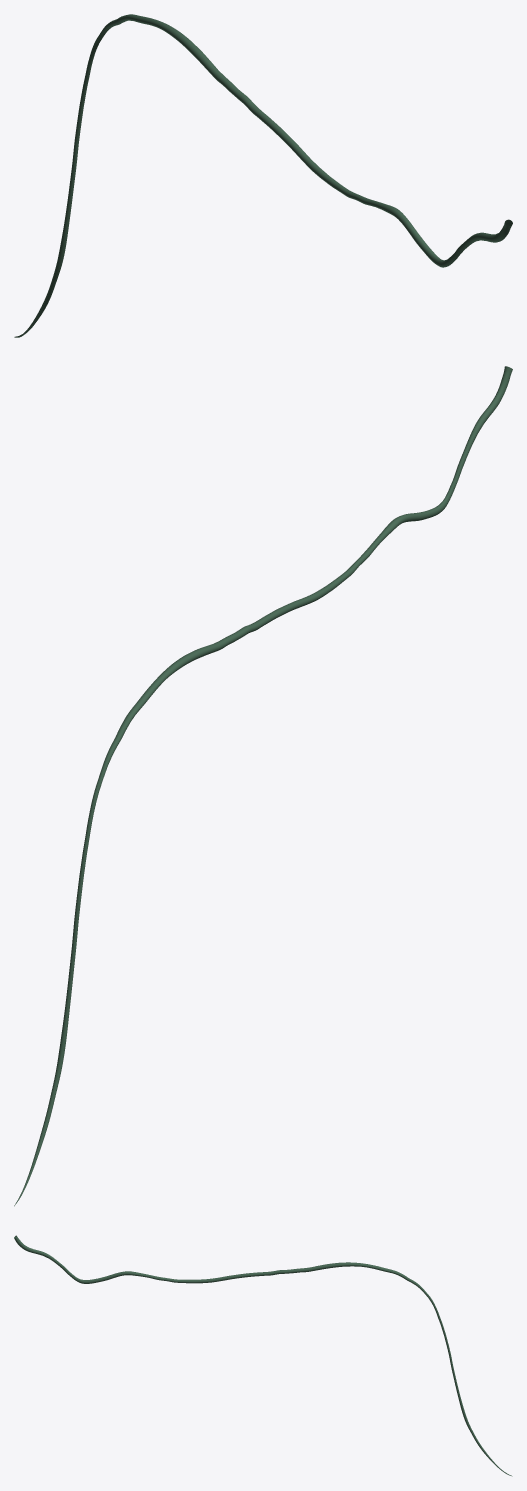
Rendered from medulla spinalis.fbx.
3 views of the same model, one above another, from view 1: azimuth 30°, elevation 25°; view 2: azimuth 150°, elevation 25°; view 3: azimuth 270°, elevation 25° (orthographic). The views are drawn at different scales.
Visible parts, largest first — view 1: medulla spinalis, medulla spinalis low; view 2: medulla spinalis; view 3: medulla spinalis.
Boxes of the visible parts, x1,y1,x2,y2 form: medulla spinalis: (14, 14, 512, 337); medulla spinalis low: (16, 16, 512, 337); medulla spinalis: (14, 366, 512, 1206); medulla spinalis: (14, 1236, 512, 1476).
Size of the model in its own units: 0.3967 by 22.94 by 43.1.
